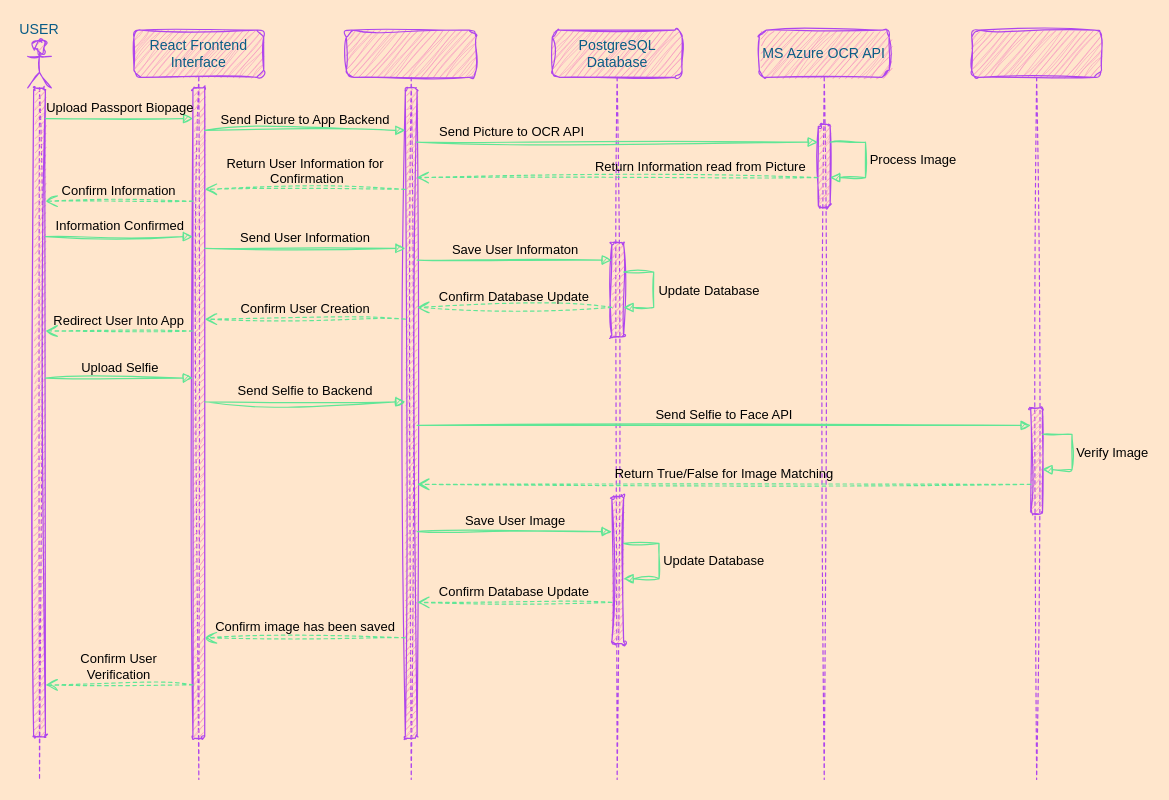
Some shapes in this 1169 by 800 pixel diagram are drawn without their labels. Here are the shapes that lost their labels. From the top down, the box of each, then its label:
(345, 29, 476, 779): Django Backend
(971, 29, 1102, 779): MS Azure Facial API
